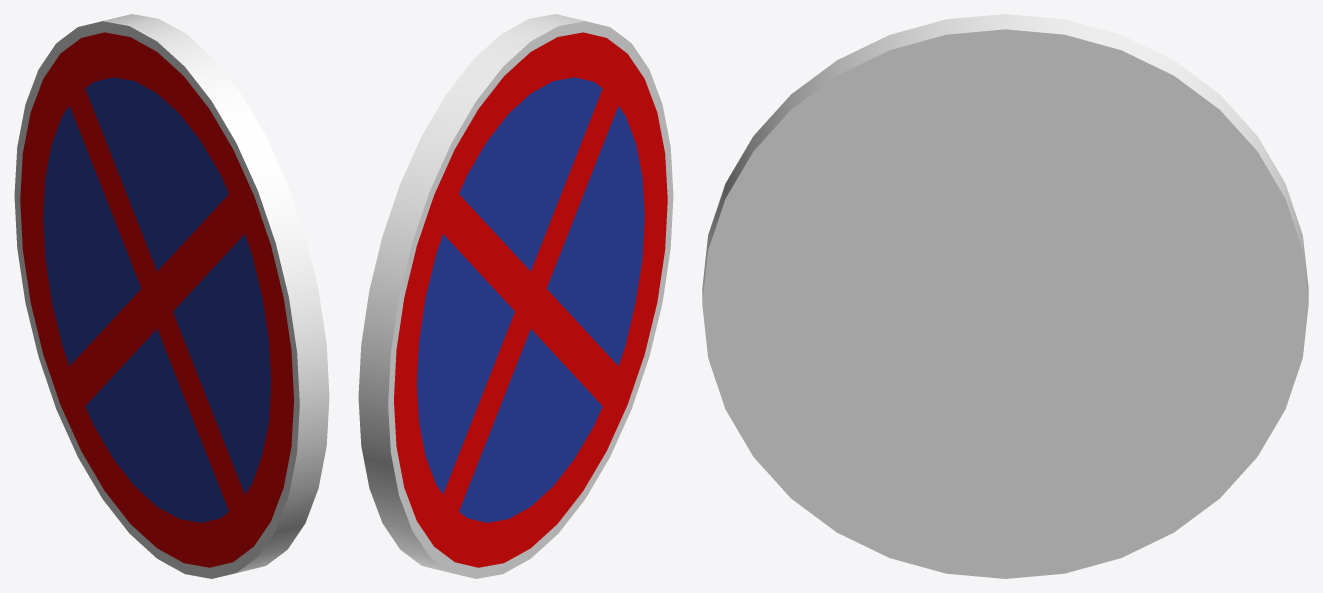
The model's file is No_Parking.fbx.
3 views of the same model, side by side, from view 1: azimuth 30°, elevation 25°; view 2: azimuth 150°, elevation 25°; view 3: azimuth 270°, elevation 25° (orthographic). The views are drawn at different scales.
Parts seen in each view (by area): view 1: No_Parking; view 2: No_Parking; view 3: No_Parking.
Boxes of the visible parts, box(x1,y1,x2,y2) form: No_Parking: box(14, 14, 329, 578); No_Parking: box(358, 14, 673, 578); No_Parking: box(702, 14, 1308, 578).
Size of the model in its own units: 0.06 by 1 by 1.
